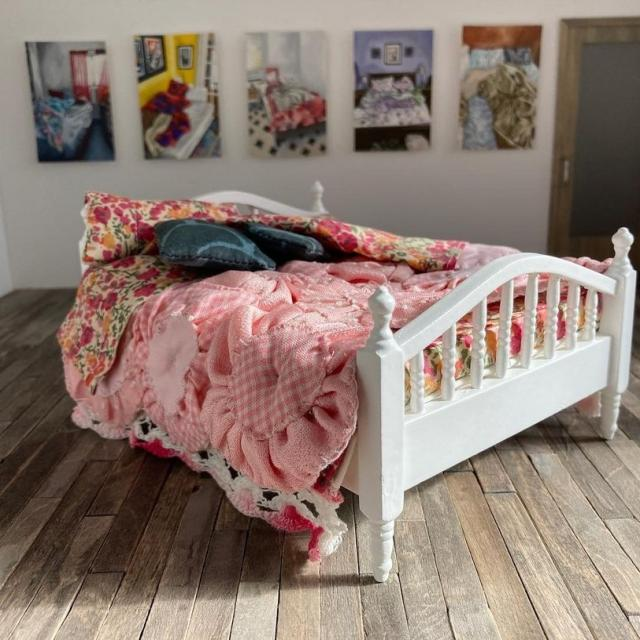bed: (84, 180, 621, 402)
